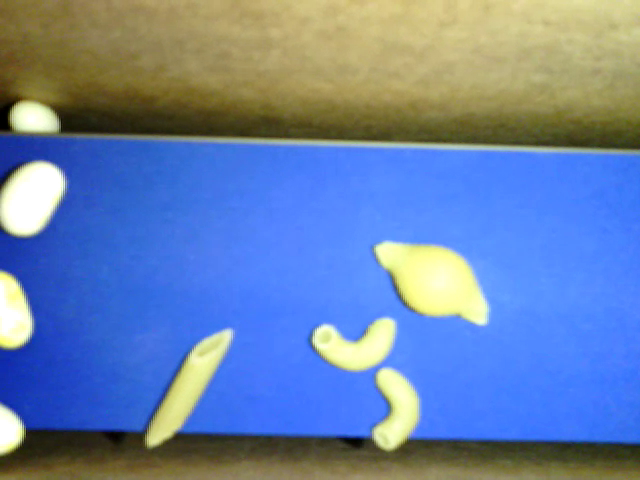elbow: (311, 315, 396, 372), (372, 367, 421, 451)
penne: (143, 328, 233, 448)
shell: (374, 240, 490, 327)
